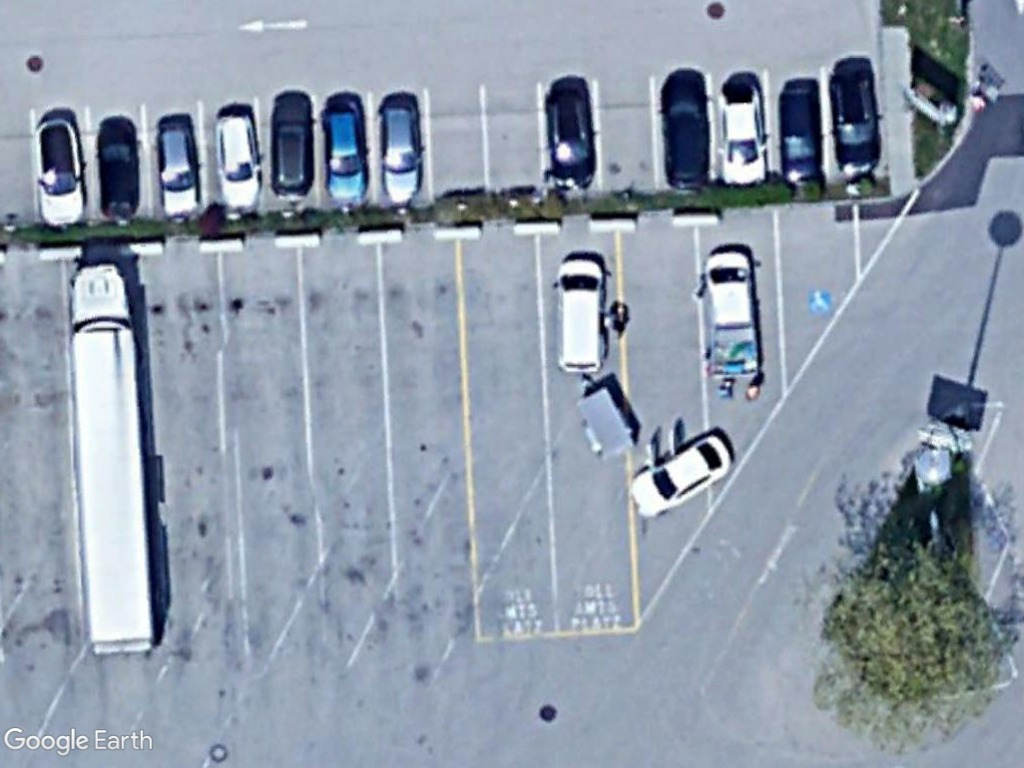car: (627, 428, 738, 521), (31, 117, 90, 229), (658, 74, 713, 192), (543, 83, 600, 195), (715, 79, 770, 190), (828, 68, 883, 178), (374, 99, 428, 208), (318, 103, 373, 207), (267, 95, 319, 203), (212, 107, 264, 213), (151, 116, 203, 221), (95, 115, 145, 224), (775, 83, 826, 184)
longvehicle: (63, 256, 166, 659)
other: (704, 246, 765, 381)
van: (555, 253, 607, 378)
